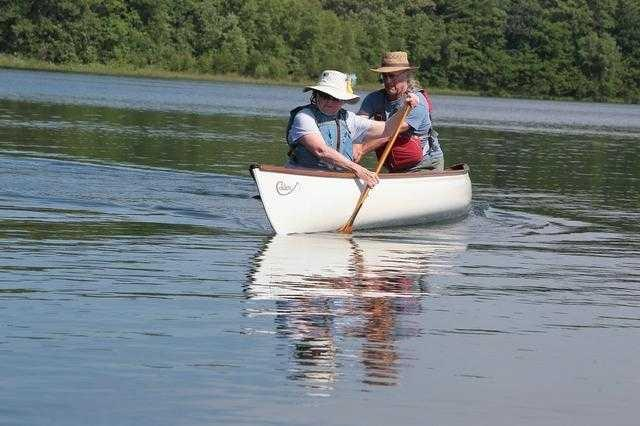kayak: (249, 162, 473, 236)
